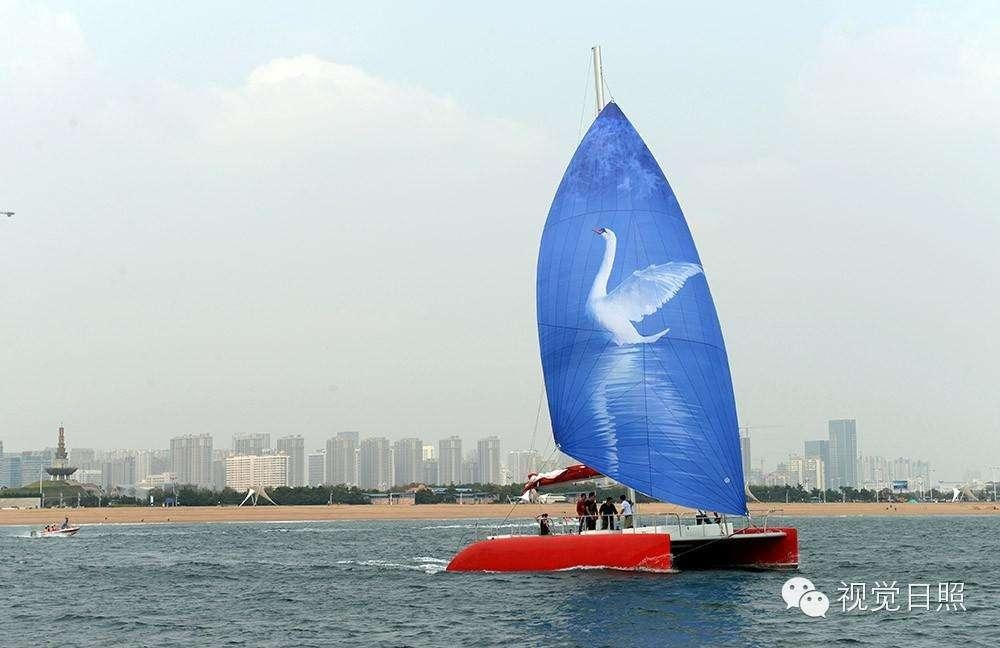fanchuan: (437, 41, 800, 575)
